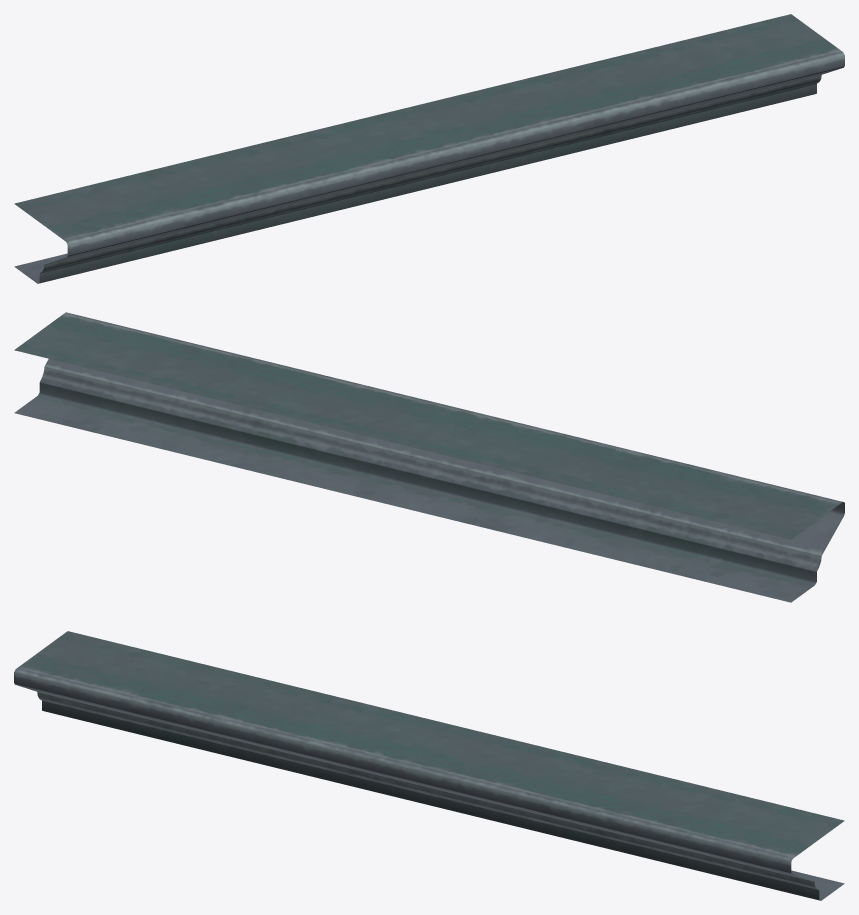
Rendered from TrimV2_Main.fbx.
3 renders of one model, top to bottom at view 1: azimuth 30°, elevation 25°; view 2: azimuth 150°, elevation 25°; view 3: azimuth 330°, elevation 25°, orthographic.
Visible parts, largest first — view 1: TrimV2_Main; view 2: TrimV2_Main; view 3: TrimV2_Main.
Part boxes in pixels (x1,y1,x2,y2): TrimV2_Main: (14, 14, 844, 283); TrimV2_Main: (14, 312, 844, 602); TrimV2_Main: (14, 631, 844, 900).
Size of the model in its own units: 500 by 38.65 by 59.95.
Materials: 1 (1 with a texture image).
